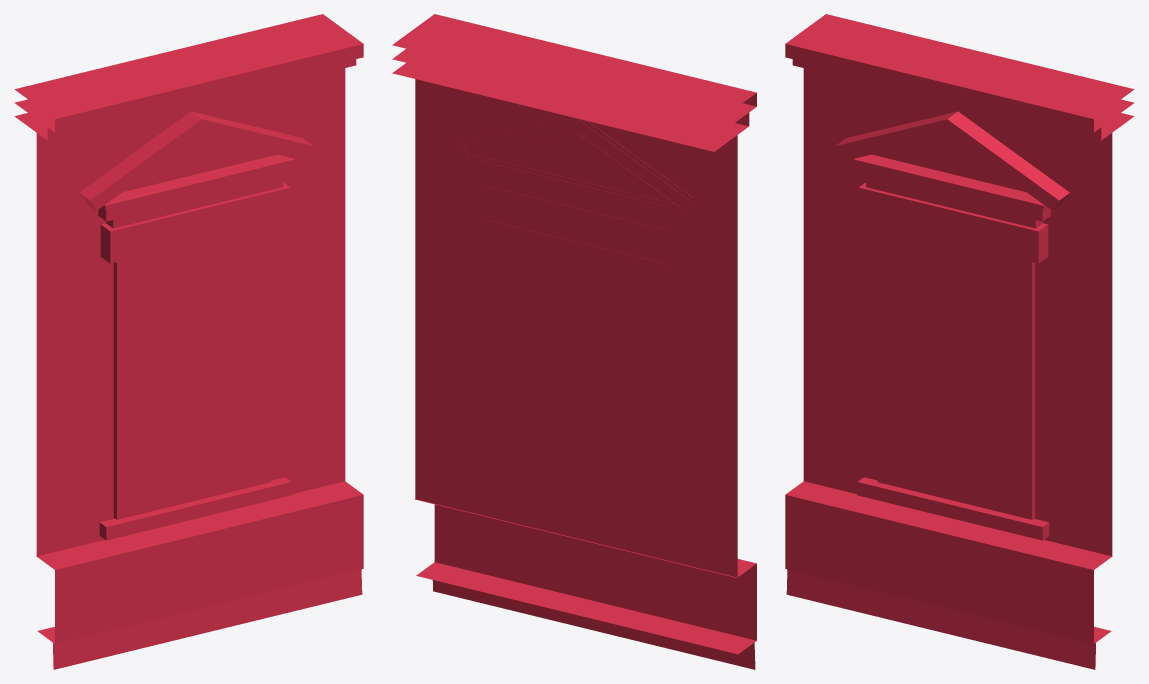
Rendered from SM_town_BD_2F.fbx.
3 renders of one model, left to right at view 1: azimuth 30°, elevation 25°; view 2: azimuth 150°, elevation 25°; view 3: azimuth 330°, elevation 25°, orthographic. The views are drawn at different scales.
Parts seen in each view (by area): view 1: 2F_main_low; view 2: 2F_main_low; view 3: 2F_main_low.
Boxes of the visible parts, left/top/right/bottom form: 2F_main_low: left=14, top=14, right=363, bottom=669; 2F_main_low: left=392, top=14, right=756, bottom=669; 2F_main_low: left=785, top=14, right=1134, bottom=669.
Size of the model in its own units: 240 by 410 by 55.
